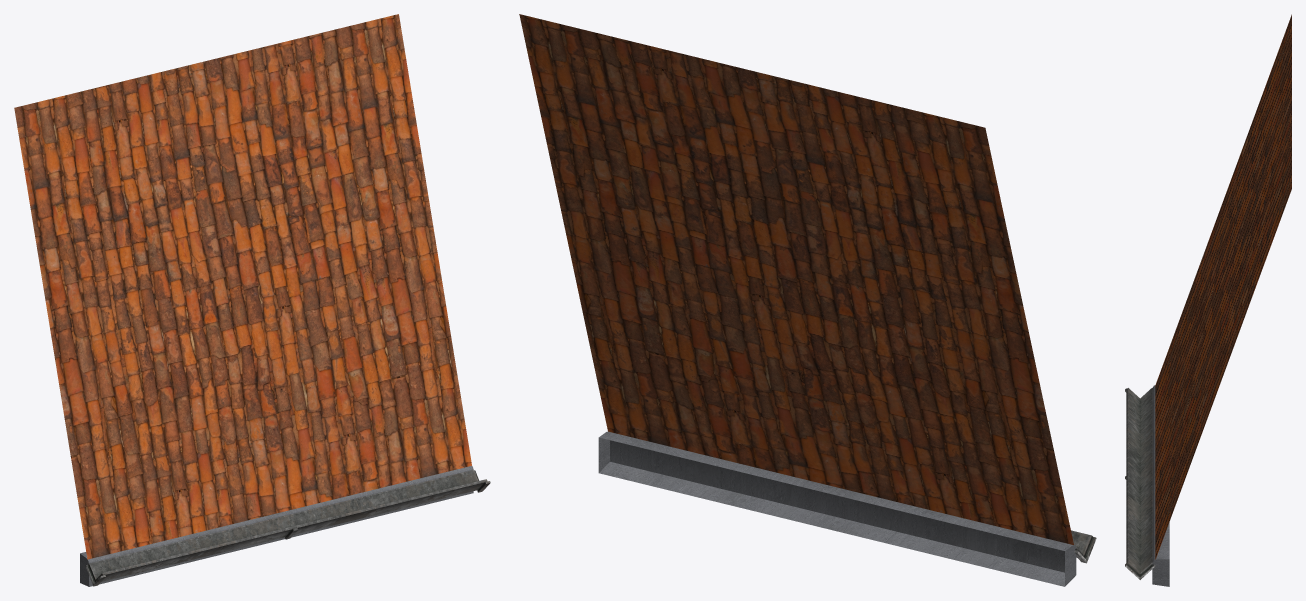
File: SM_Roof_Straight.fbx
3 views of the same model, side by side, from view 1: azimuth 30°, elevation 25°; view 2: azimuth 150°, elevation 25°; view 3: azimuth 270°, elevation 25° (orthographic). The views are drawn at different scales.
Visible parts, largest first — view 1: SM_Roof_Straight; view 2: SM_Roof_Straight; view 3: SM_Roof_Straight.
Part boxes in pixels (x1,y1,x2,y2): SM_Roof_Straight: (14,14,490,586); SM_Roof_Straight: (519,14,1096,586); SM_Roof_Straight: (1125,14,1291,586).
Bounding box in the file's own units: 3.04 × 3.18 × 1.21.
